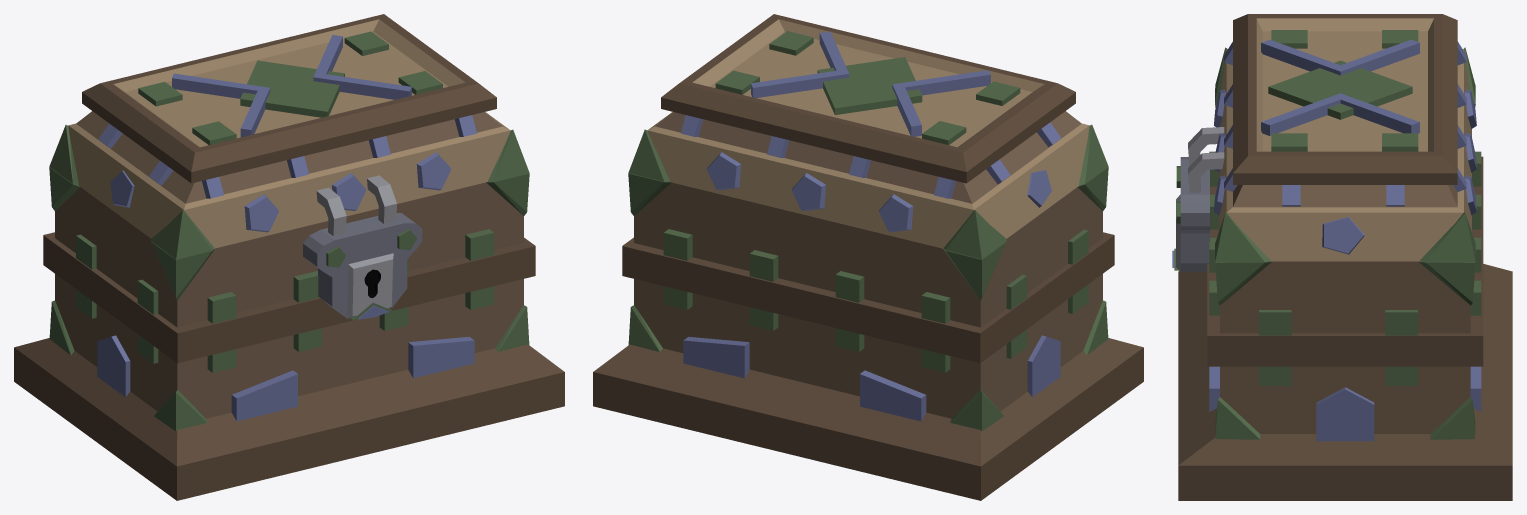
Rendered from _trunk_10.fbx.
The picture shows the model from 3 angles, left to right: view 1: azimuth 30°, elevation 25°; view 2: azimuth 150°, elevation 25°; view 3: azimuth 270°, elevation 25°; orthographic projection. The views are drawn at different scales.
Visible parts, largest first — view 1: trunk_10; view 2: trunk_10; view 3: trunk_10.
Part boxes in pixels (box(x1,y1,x2,y2)): trunk_10: box(14, 14, 564, 500); trunk_10: box(593, 14, 1143, 500); trunk_10: box(1172, 14, 1512, 500).
Bounding box in the file's own units: 90.87 × 70.13 × 67.24.
